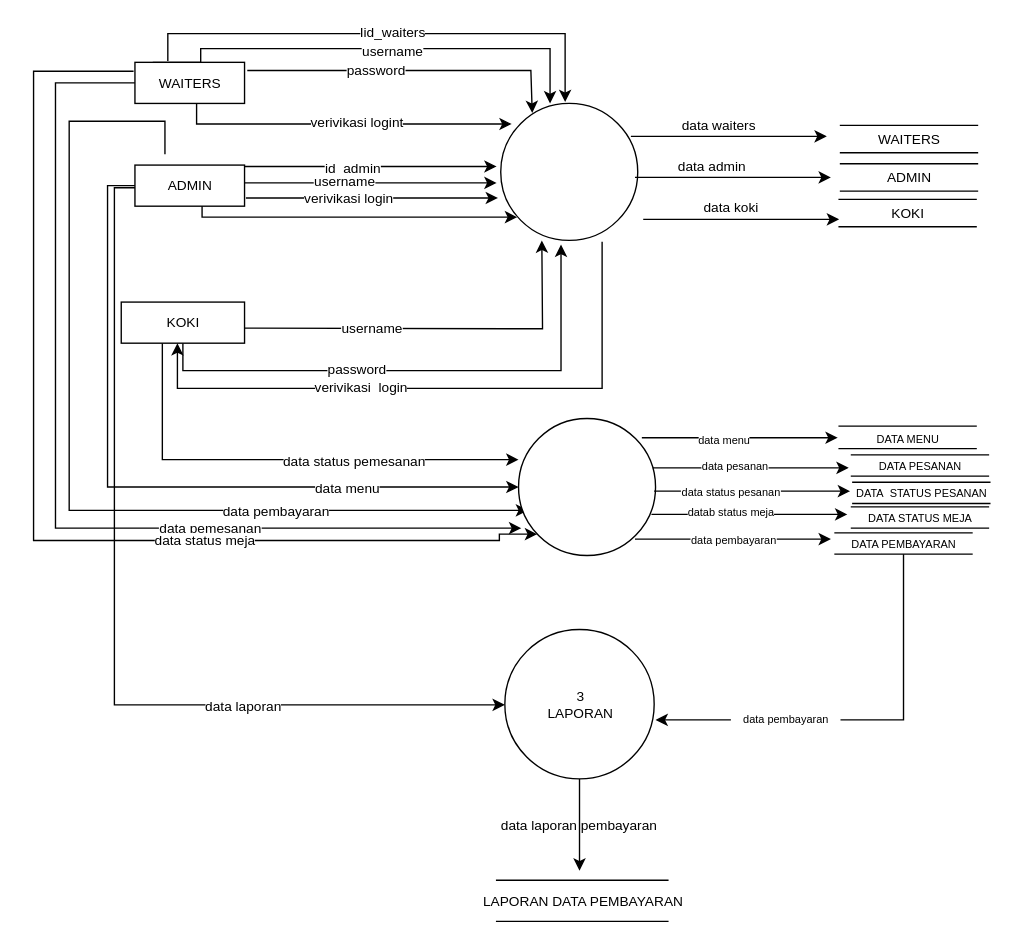
Image size: 1014x945. Some labels were removed from this diagram. The box of each missing label's shape, as (x1, y1, x2, y2) in pixels:
1 LOGIN: (499, 102, 638, 240)
2 PENGOLAHAN DATA: (517, 417, 656, 556)
